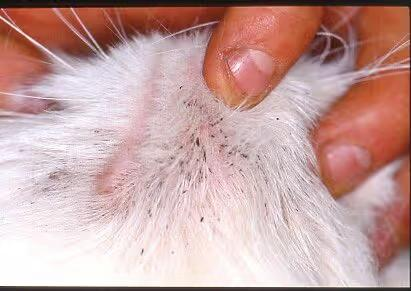acne: (136, 76, 225, 259)
